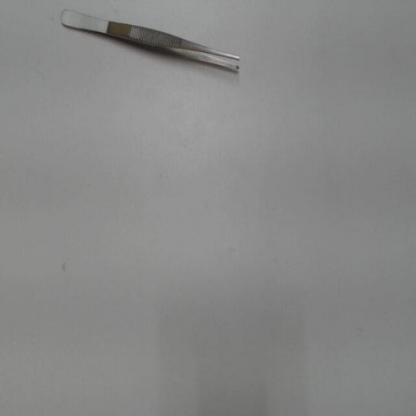Gillies Toothed Dissector: (60, 2, 247, 84)
